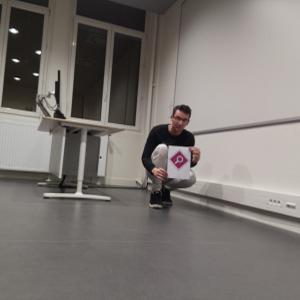search: (171, 150, 188, 170)
